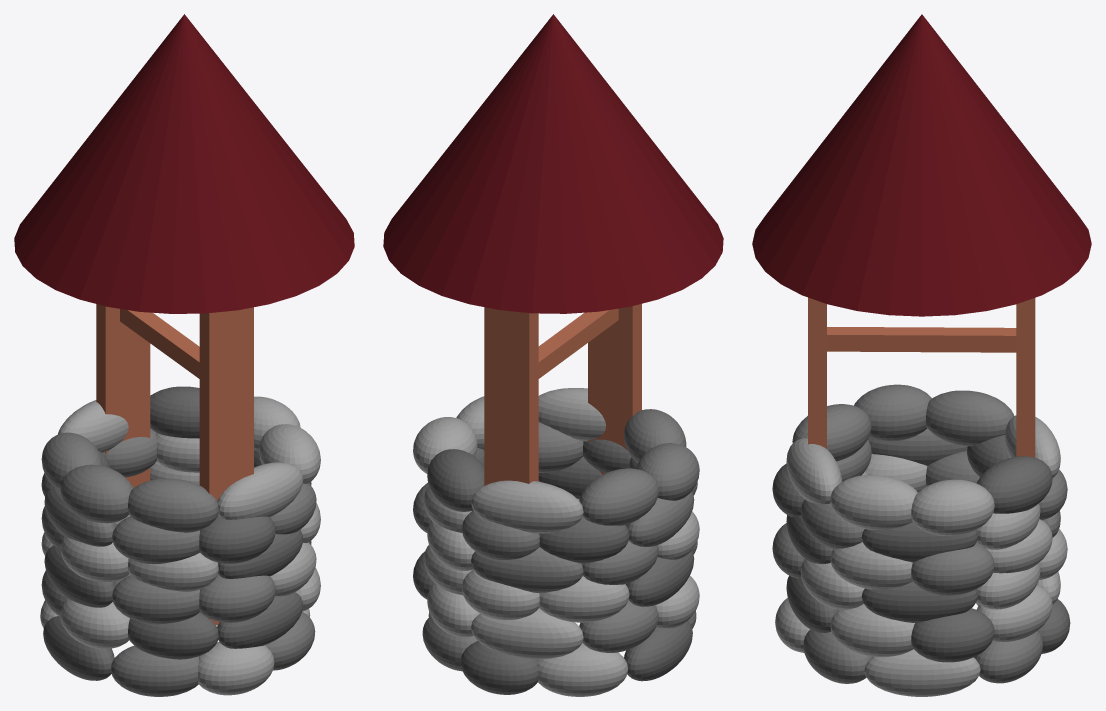
Rendered from Well.fbx.
3 views of the same model, side by side, from view 1: azimuth 30°, elevation 25°; view 2: azimuth 150°, elevation 25°; view 3: azimuth 270°, elevation 25° (orthographic).
Visible parts, largest first — view 1: Cone, Cube.001, Cube, Sphere.037, Sphere.035, Sphere.039, Sphere.001, Sphere, Sphere.013, Sphere.022, Sphere.040, Sphere.023 (+23 smaller); view 2: Cone, Cube, Cube.001, Sphere.036, Sphere.012, Sphere.038, Sphere.005, Sphere.027, Sphere.007, Sphere.018, Sphere.045, Sphere.034 (+24 smaller); view 3: Cone, Cube.002, Sphere.004, Sphere.033, Sphere.032, Sphere.038, Sphere.008, Sphere.039, Sphere.031, Sphere.034, Sphere.009, Cube (+28 smaller).
Part boxes in pixels (bbox=[...]): Cone: bbox=[14, 14, 354, 313]; Cube.001: bbox=[199, 307, 253, 625]; Cube: bbox=[96, 304, 150, 488]; Sphere.037: bbox=[128, 478, 218, 532]; Sphere.035: bbox=[217, 462, 303, 519]; Sphere.039: bbox=[60, 464, 133, 523]; Sphere.001: bbox=[110, 645, 199, 696]; Sphere: bbox=[198, 642, 274, 695]; Sphere.013: bbox=[128, 612, 218, 659]; Sphere.022: bbox=[112, 575, 199, 624]; Sphere.040: bbox=[199, 515, 275, 563]; Sphere.023: bbox=[199, 574, 275, 622]; Cone: bbox=[383, 14, 723, 313]; Cube: bbox=[484, 307, 538, 485]; Cube.001: bbox=[588, 304, 641, 474]; Sphere.036: bbox=[471, 480, 583, 533]; Sphere.012: bbox=[471, 608, 583, 659]; Sphere.038: bbox=[579, 468, 658, 525]; Sphere.005: bbox=[537, 642, 628, 696]; Sphere.027: bbox=[471, 547, 583, 592]; Sphere.007: bbox=[460, 641, 538, 694]; Sphere.018: bbox=[539, 576, 629, 622]; Sphere.045: bbox=[539, 517, 629, 563]; Sphere.034: bbox=[427, 449, 484, 511]; Cone: bbox=[752, 14, 1091, 316]; Cube.002: bbox=[827, 327, 1016, 352]; Sphere.004: bbox=[864, 649, 980, 696]; Sphere.033: bbox=[830, 475, 917, 529]; Sphere.032: bbox=[911, 479, 994, 536]; Sphere.038: bbox=[925, 390, 1014, 446]; Sphere.008: bbox=[911, 608, 994, 662]; Sphere.039: bbox=[854, 384, 931, 441]; Sphere.031: bbox=[911, 543, 994, 595]; Sphere.034: bbox=[976, 456, 1052, 513]; Sphere.009: bbox=[830, 604, 914, 657]; Cube: bbox=[1016, 298, 1035, 457].
Bounding box in the file's own units: 719 × 1466 × 709.
